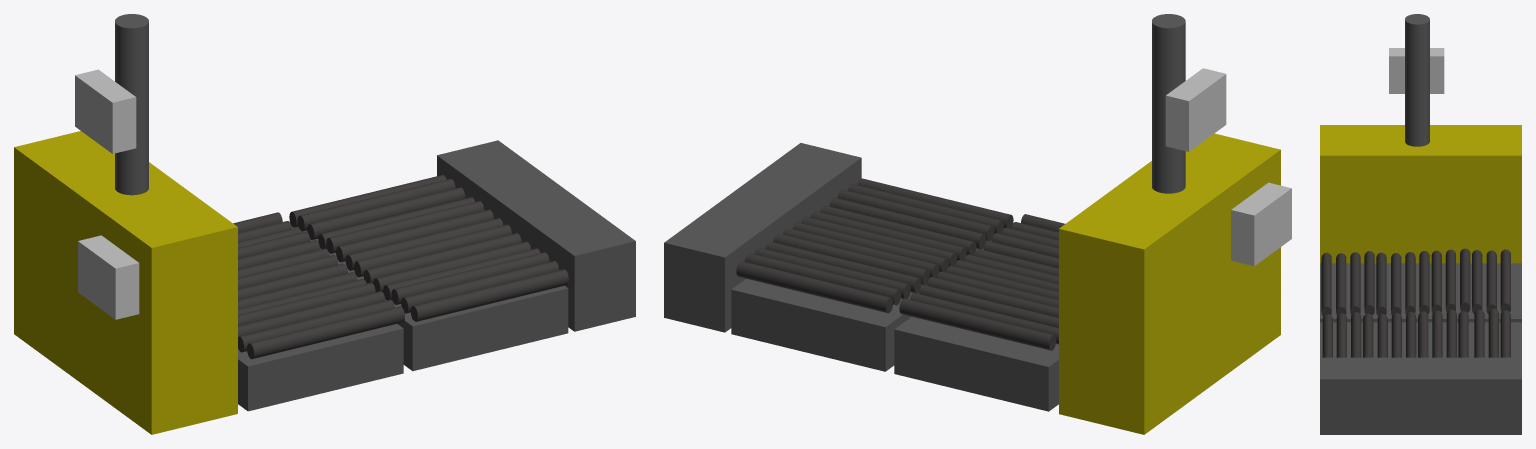
File: quad_f1.glb
The picture shows the model from 3 angles, left to right: view 1: azimuth 30°, elevation 25°; view 2: azimuth 150°, elevation 25°; view 3: azimuth 270°, elevation 25°; orthographic projection. The views are drawn at different scales.
Visible parts, largest first — view 1: mesh_id86, mesh_id316, mesh_id35, mesh_id29, mesh_id321, mesh_id92, mesh_id327, mesh_id270, mesh_id37, mesh_id307, mesh_id305, mesh_id264 (+20 smaller); view 2: mesh_id86, mesh_id316, mesh_id35, mesh_id29, mesh_id321, mesh_id327, mesh_id92, mesh_id219, mesh_id303, mesh_id262, mesh_id305, mesh_id276 (+20 smaller); view 3: mesh_id86, mesh_id316, mesh_id35, mesh_id321, mesh_id29, mesh_id327, mesh_id213, mesh_id60, mesh_id74, mesh_id37, mesh_id76, mesh_id219 (+22 smaller).
Part boxes in pixels (x1=…): mesh_id86: x1=14, y1=131, x2=237, y2=434; mesh_id316: x1=437, y1=140, x2=635, y2=331; mesh_id35: x1=238, y1=324, x2=403, y2=411; mesh_id29: x1=291, y1=226, x2=568, y2=371; mesh_id321: x1=115, y1=14, x2=148, y2=195; mesh_id92: x1=78, y1=235, x2=139, y2=319; mesh_id327: x1=75, y1=69, x2=136, y2=153; mesh_id270: x1=411, y1=269, x2=568, y2=321; mesh_id37: x1=247, y1=306, x2=404, y2=359; mesh_id307: x1=307, y1=187, x2=465, y2=239; mesh_id305: x1=297, y1=178, x2=455, y2=231; mesh_id264: x1=391, y1=252, x2=549, y2=304; mesh_id86: x1=1059, y1=133, x2=1280, y2=434; mesh_id316: x1=664, y1=143, x2=861, y2=332; mesh_id35: x1=894, y1=316, x2=1058, y2=411; mesh_id29: x1=731, y1=240, x2=991, y2=371; mesh_id321: x1=1152, y1=14, x2=1185, y2=193; mesh_id327: x1=1165, y1=68, x2=1226, y2=151; mesh_id92: x1=1231, y1=182, x2=1291, y2=266; mesh_id219: x1=899, y1=298, x2=1056, y2=350; mesh_id303: x1=736, y1=261, x2=892, y2=313; mesh_id262: x1=829, y1=197, x2=986, y2=249; mesh_id305: x1=744, y1=253, x2=901, y2=305; mesh_id276: x1=773, y1=233, x2=929, y2=285; mesh_id86: x1=1320, y1=125, x2=1521, y2=263; mesh_id316: x1=1320, y1=357, x2=1521, y2=434; mesh_id35: x1=1320, y1=263, x2=1521, y2=322; mesh_id321: x1=1405, y1=14, x2=1429, y2=146; mesh_id29: x1=1320, y1=322, x2=1521, y2=357; mesh_id327: x1=1389, y1=48, x2=1444, y2=93; mesh_id213: x1=1460, y1=248, x2=1470, y2=312; mesh_id60: x1=1364, y1=251, x2=1374, y2=315; mesh_id74: x1=1376, y1=252, x2=1386, y2=316; mesh_id37: x1=1321, y1=252, x2=1331, y2=316; mesh_id76: x1=1419, y1=251, x2=1429, y2=314; mesh_id219: x1=1500, y1=249, x2=1510, y2=311.
Bounding box in the file's own units: 1.28 × 0.852 × 0.601.
13 materials, 13 textured.
